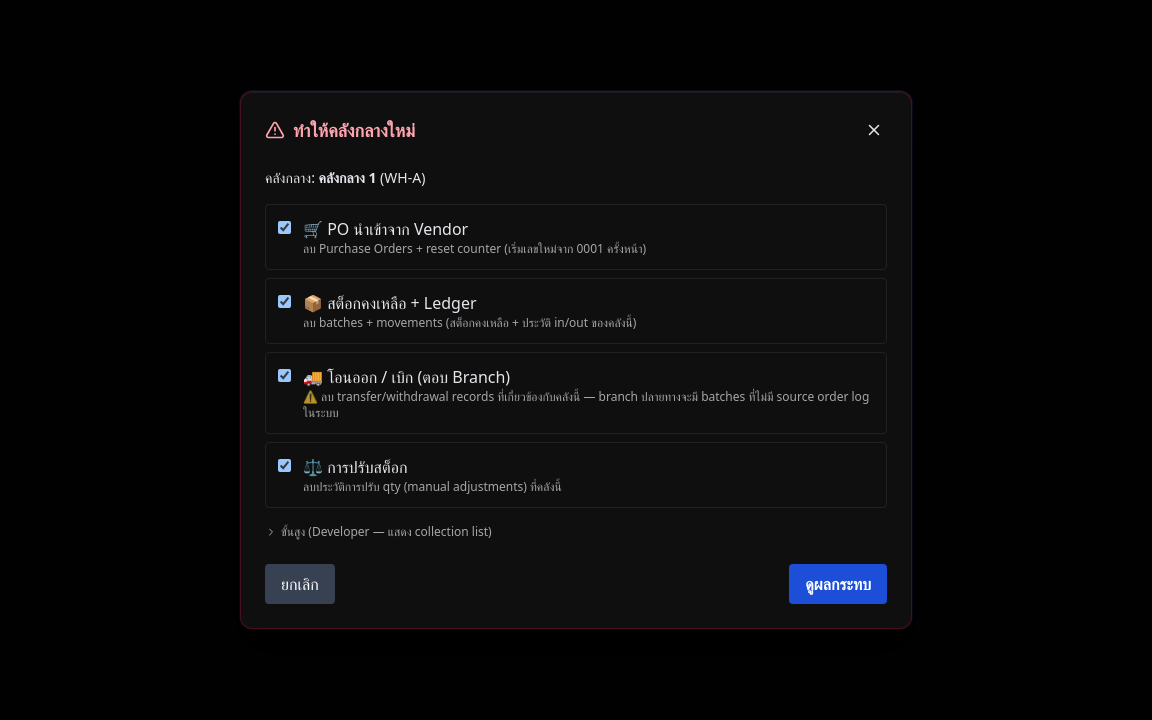
CF1 CentralMakeFreshModal — Rule I full-flow simulate › CF1.3 — preview displays per-bucket counts from dryRun response
Click the button with test id "cs-preview-btn": click(838, 584) [789,564,887,604]
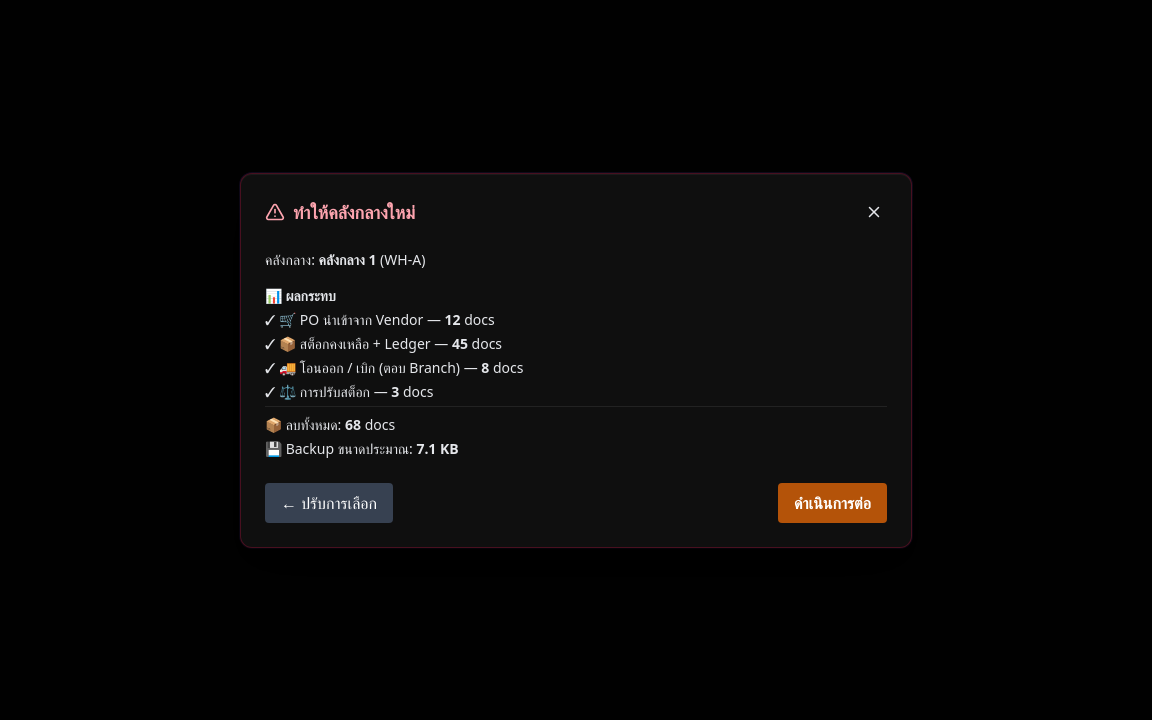
Result: the element with test id "cs-impact-panel" is shown at [265,286,887,458]
Result: the text "12" is shown at [445,310,461,328]
Result: the text "68" is shown at [345,414,361,434]
